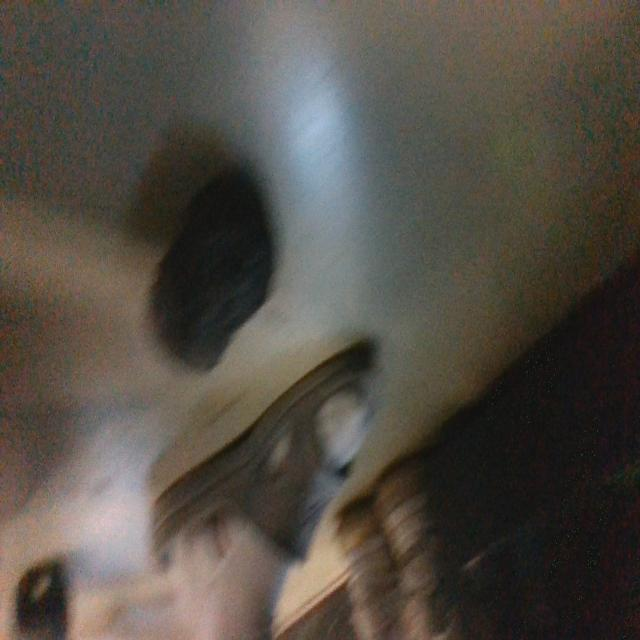stone: (150, 167, 276, 376)
